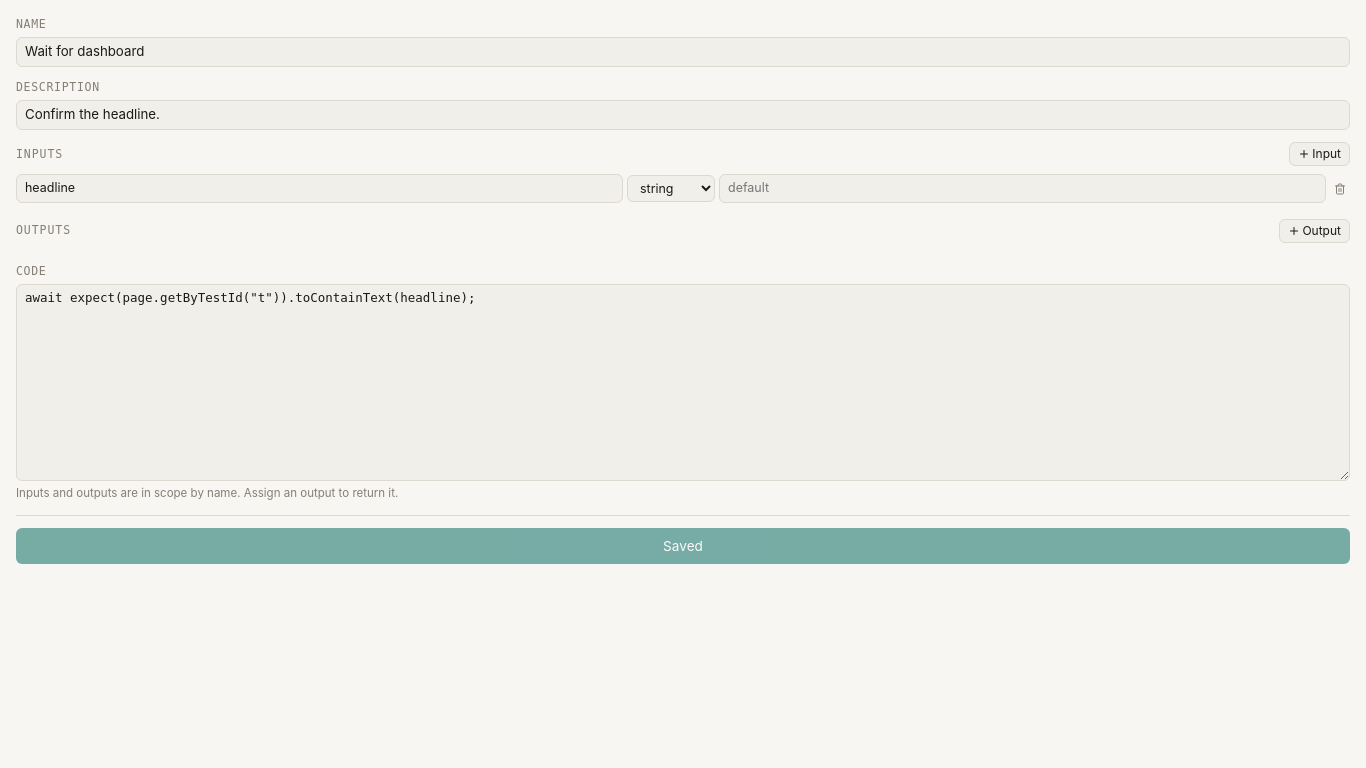
Test: saving › sends the edited snippet and reports success
This screenshot has width=1366, height=768.
Replace the text in the field showing "Confirm the headline." with "Checks the headline." at (683, 115), box [16,100,1350,130]
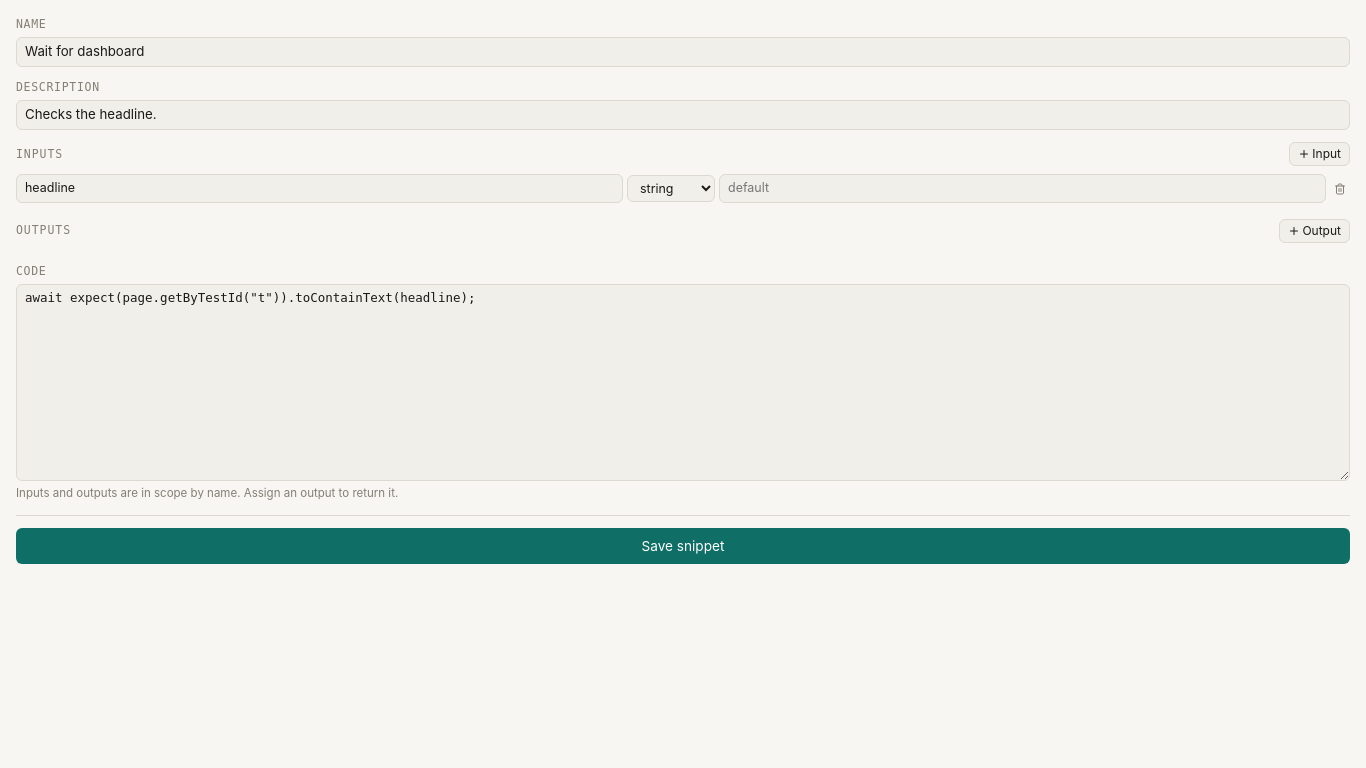
Click the button "Save snippet" at (683, 546), box [16,528,1350,564]
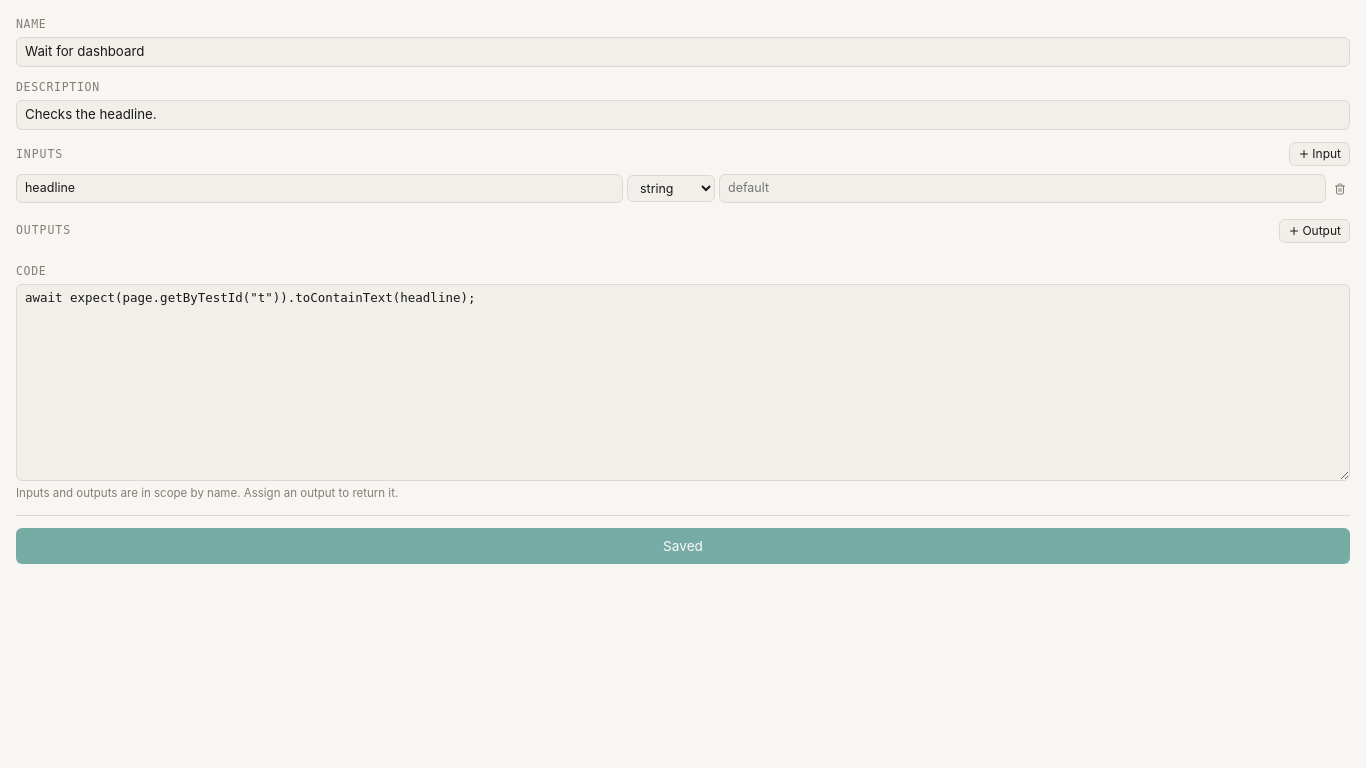
Check: the button "Saved" is shown, box [16,528,1350,564]
